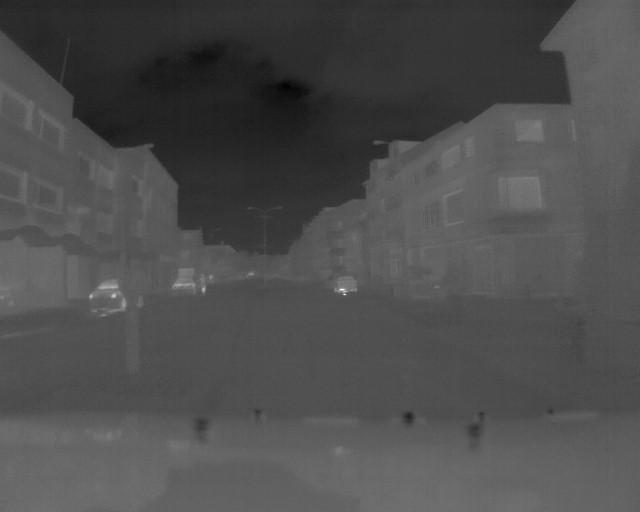car: (87, 274, 147, 315), (169, 272, 211, 299), (332, 273, 360, 297)
